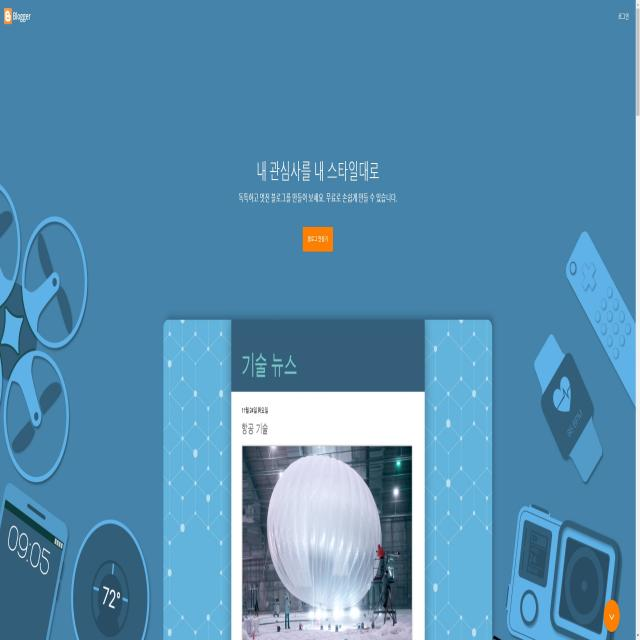menu-bar: (605, 7, 627, 27)
